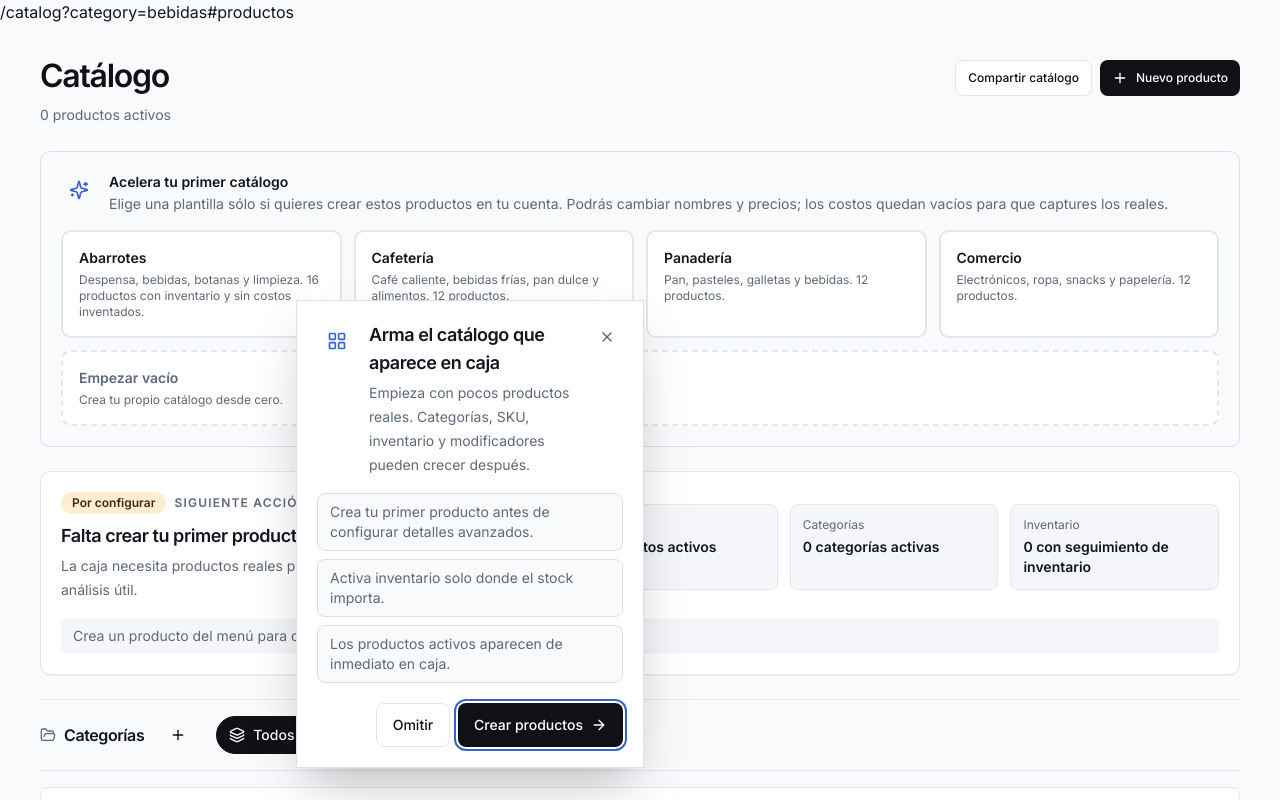
Test: first-use tour continuation › opens the existing product form from the catalog CTA, focuses its dialog and preserves the current query
The image size is (1280, 800).
Click the button "Crear productos" at (541, 725), box [458,703,623,747]
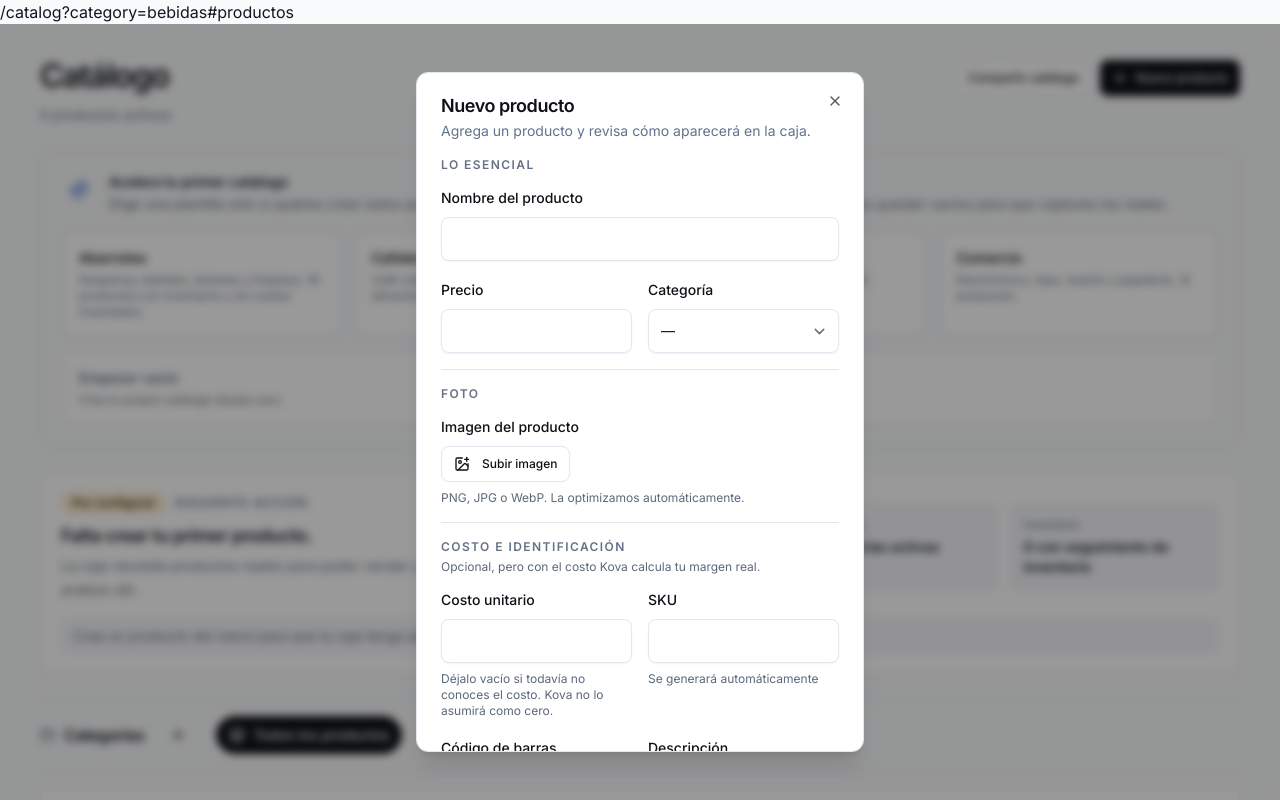
Expected: the text named "Ruta actual" reads "/catalog?category=bebidas#productos", [0,2,294,22]
Expected: the field labelled "Nombre del producto" is shown, [441,217,839,261]
Expected: the button "Crear productos" is gone
Press Escape in the dialog "Nuevo producto", box [416,72,864,752]
(page scrolled)
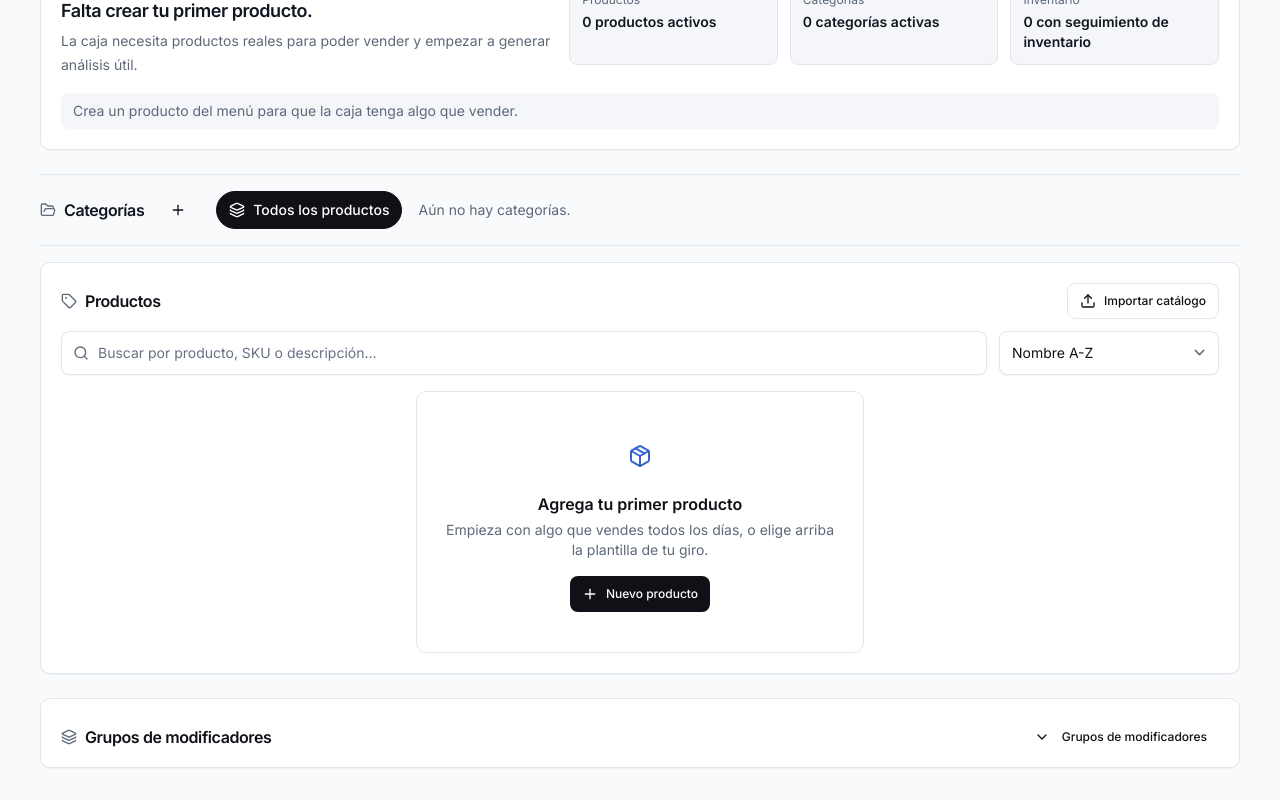
Expected: the button "Nuevo producto" is enabled, [570,576,710,612]
Expected: the dialog is gone
